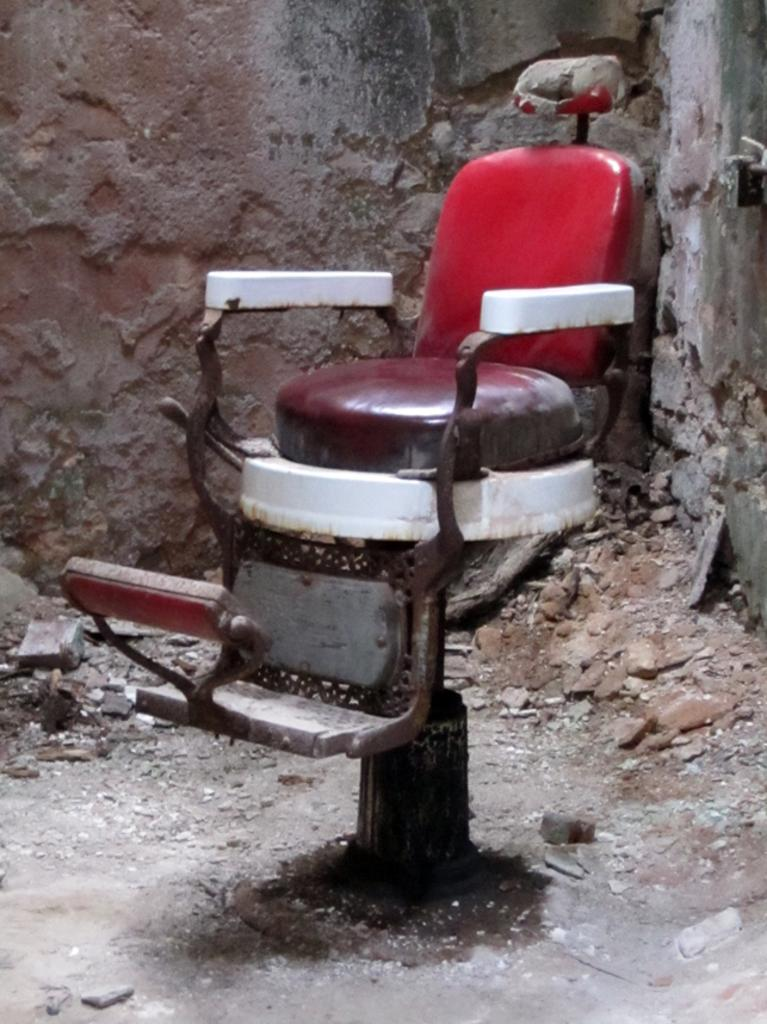Chair: (56, 45, 638, 905)
